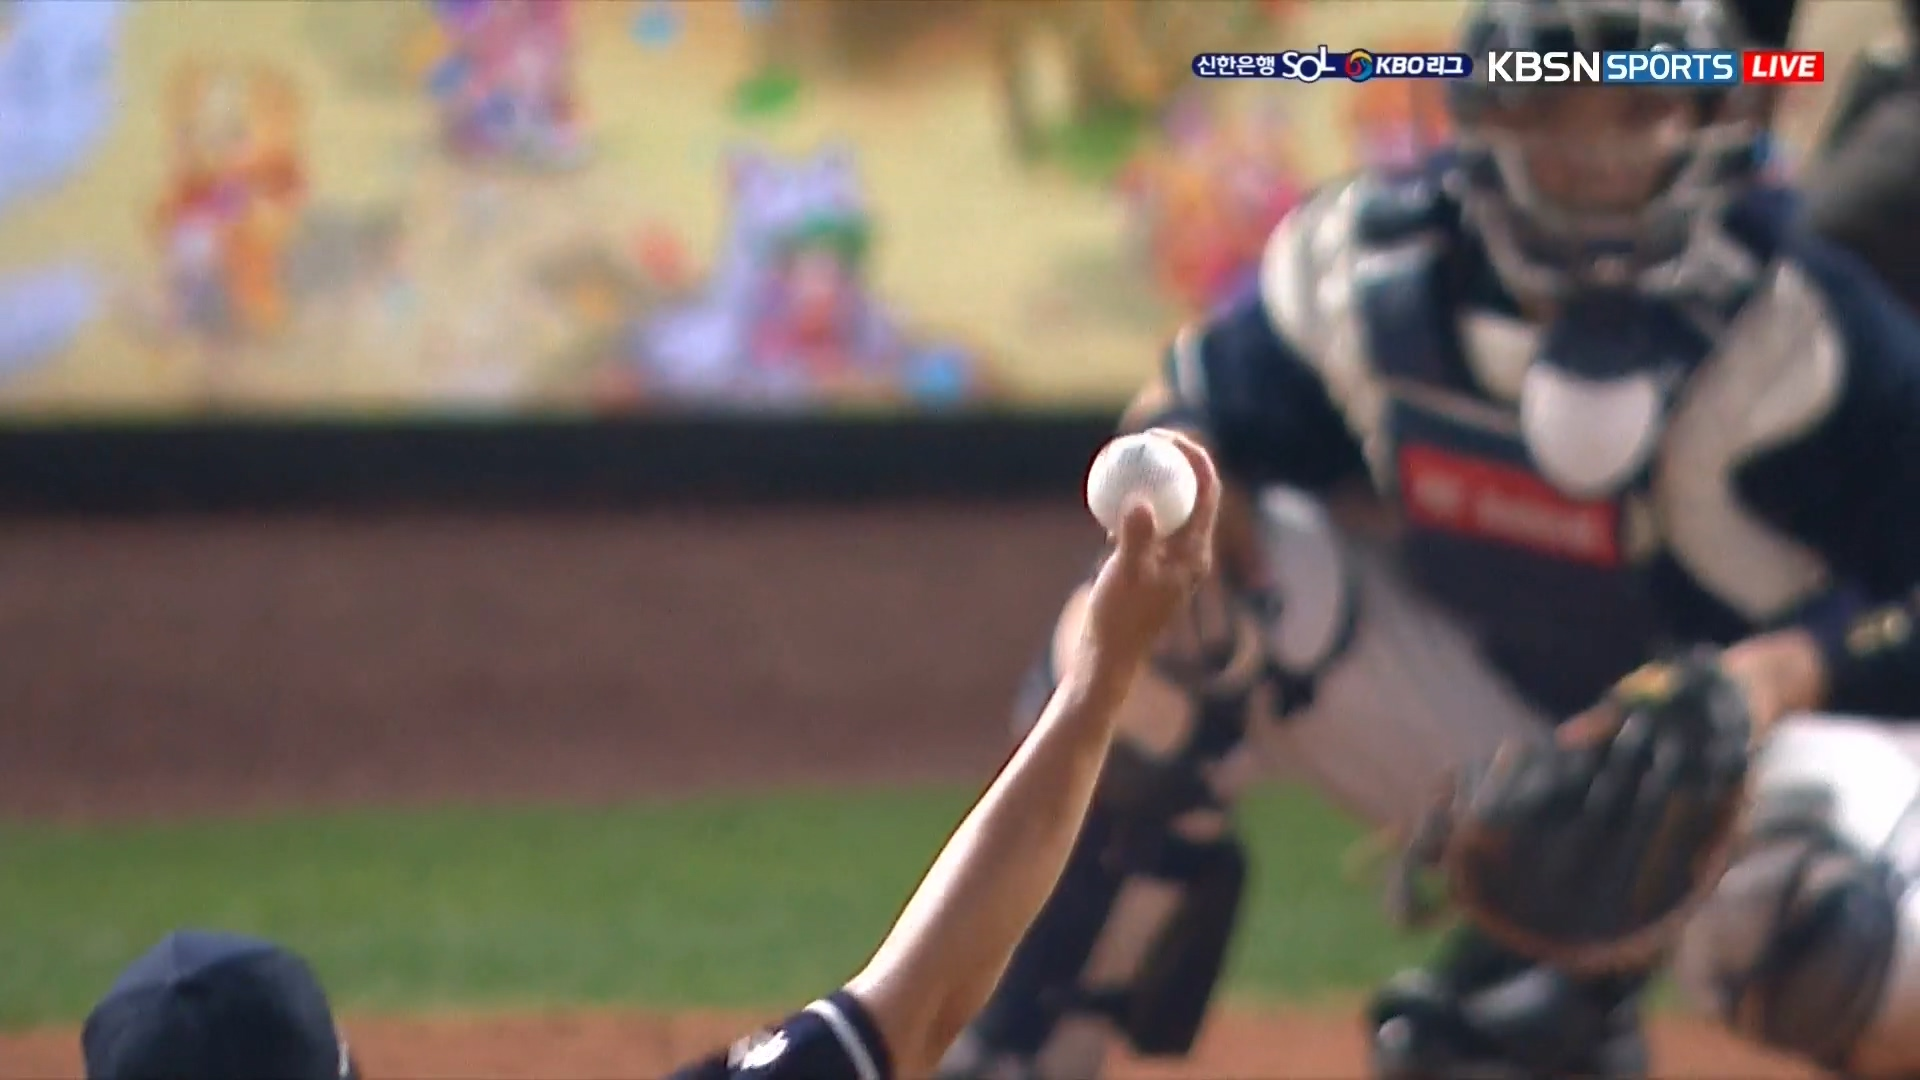zoomin_hand: (876, 406, 1225, 1052)
